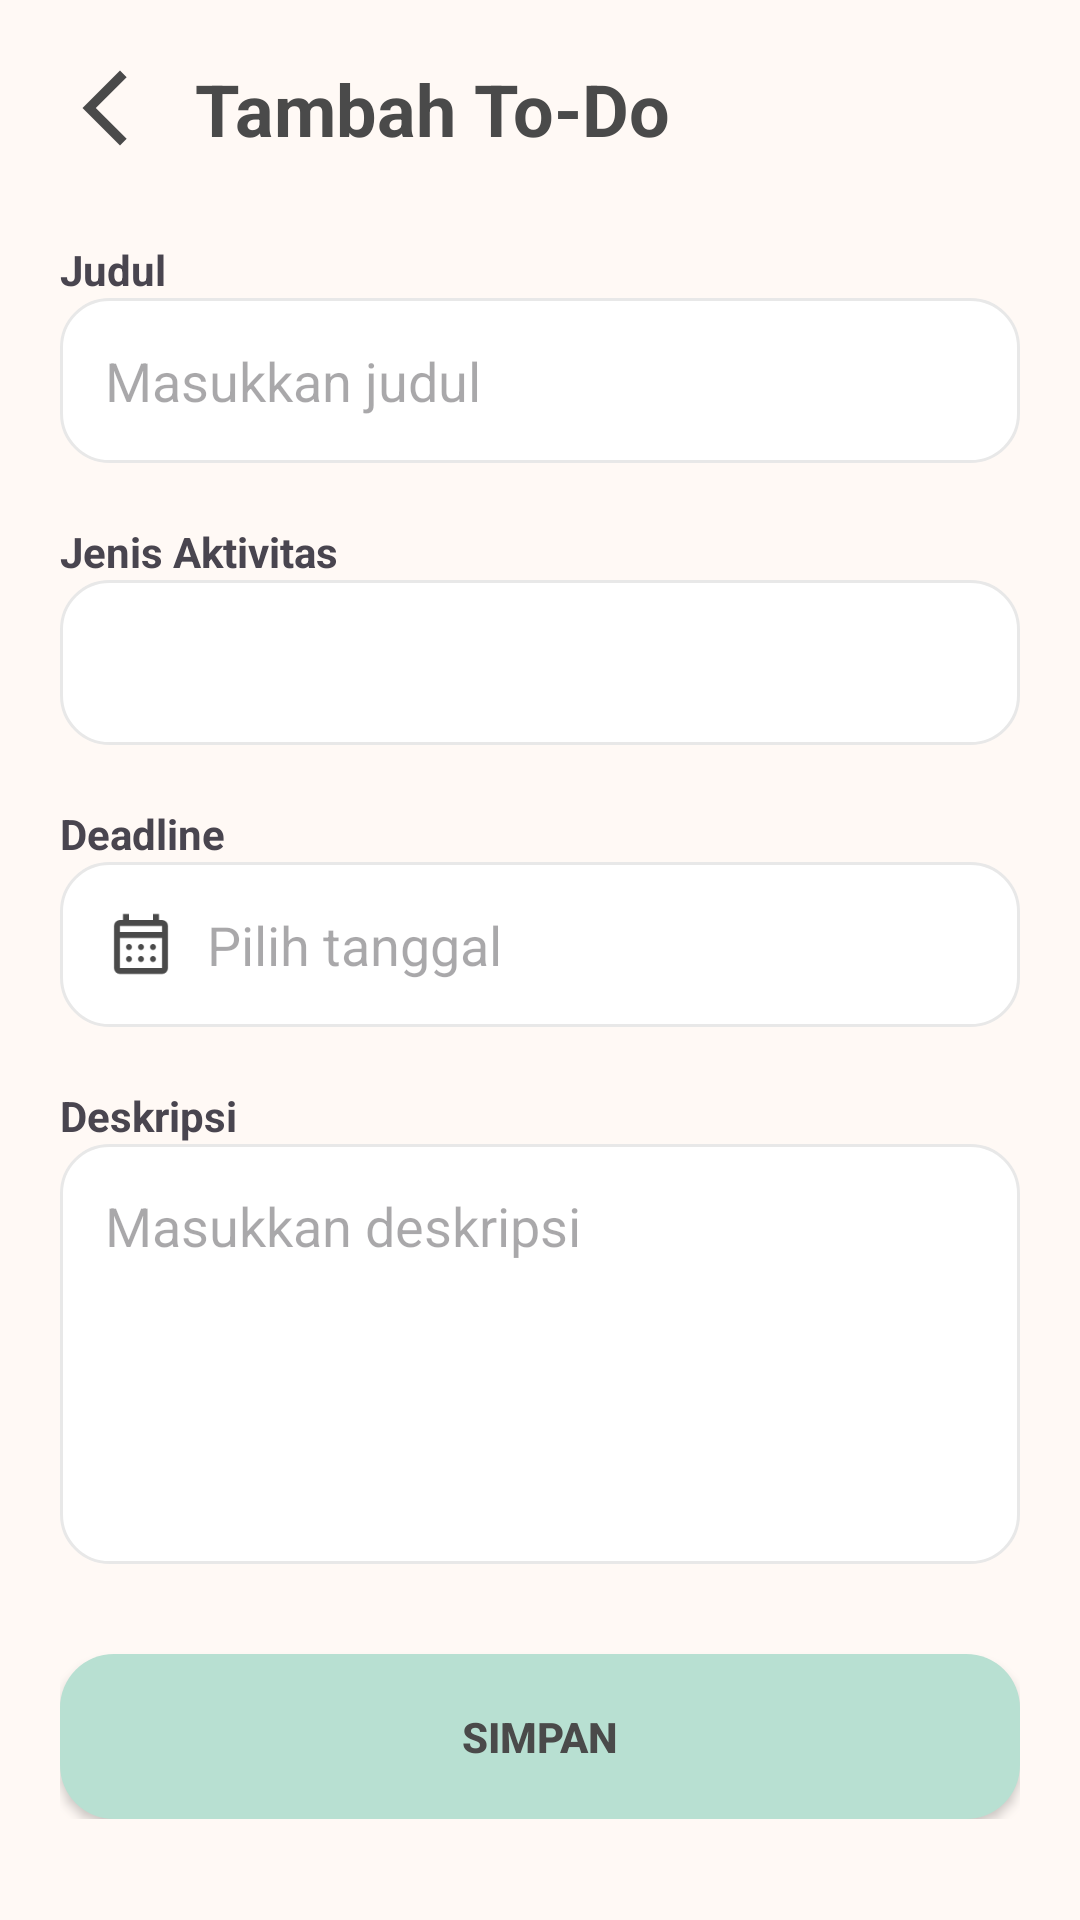

Where to tap for icons on this 1080*1920 app screen, as (x,y):
back: (105,108)
